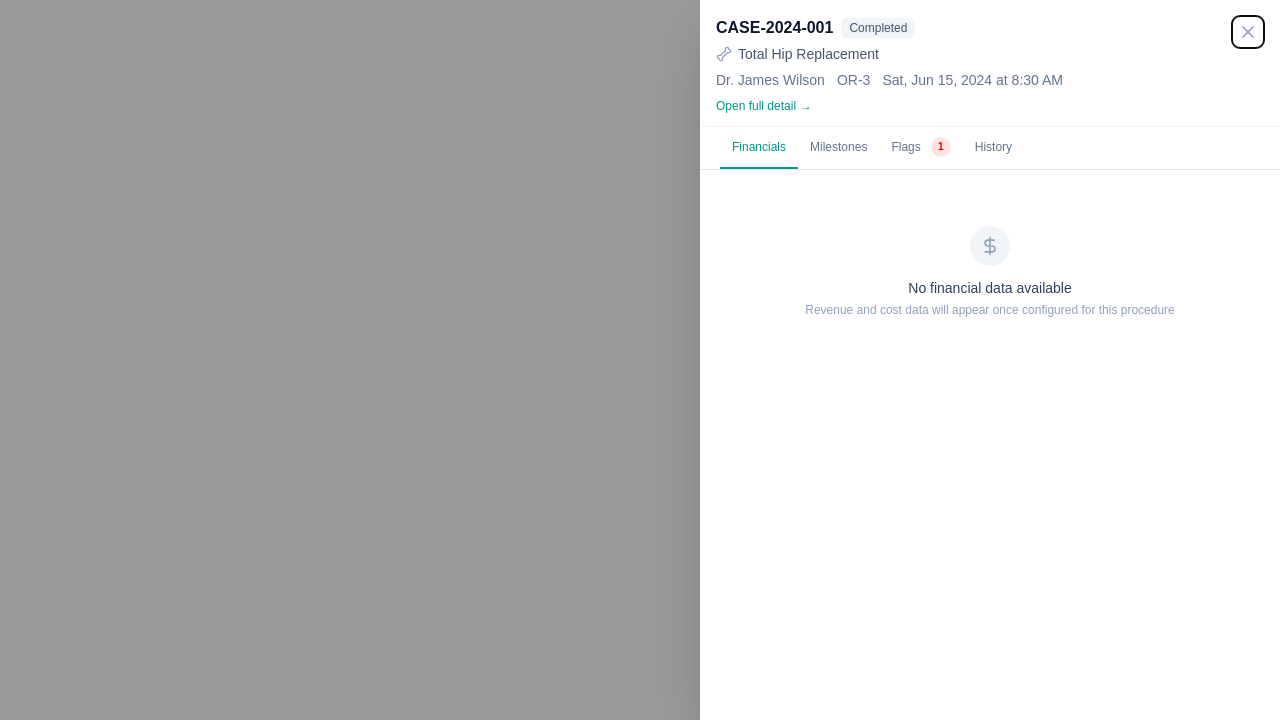
Test: CaseDrawer — cross-tab consistency › financials tab renders after switching from milestones
This screenshot has width=1280, height=720.
Note: Switch to Milestones first
What coordinates should you click on to do the following:
click the button "Milestones"
I would click on:
 (839, 148)
Its box is [798,127,879,169].
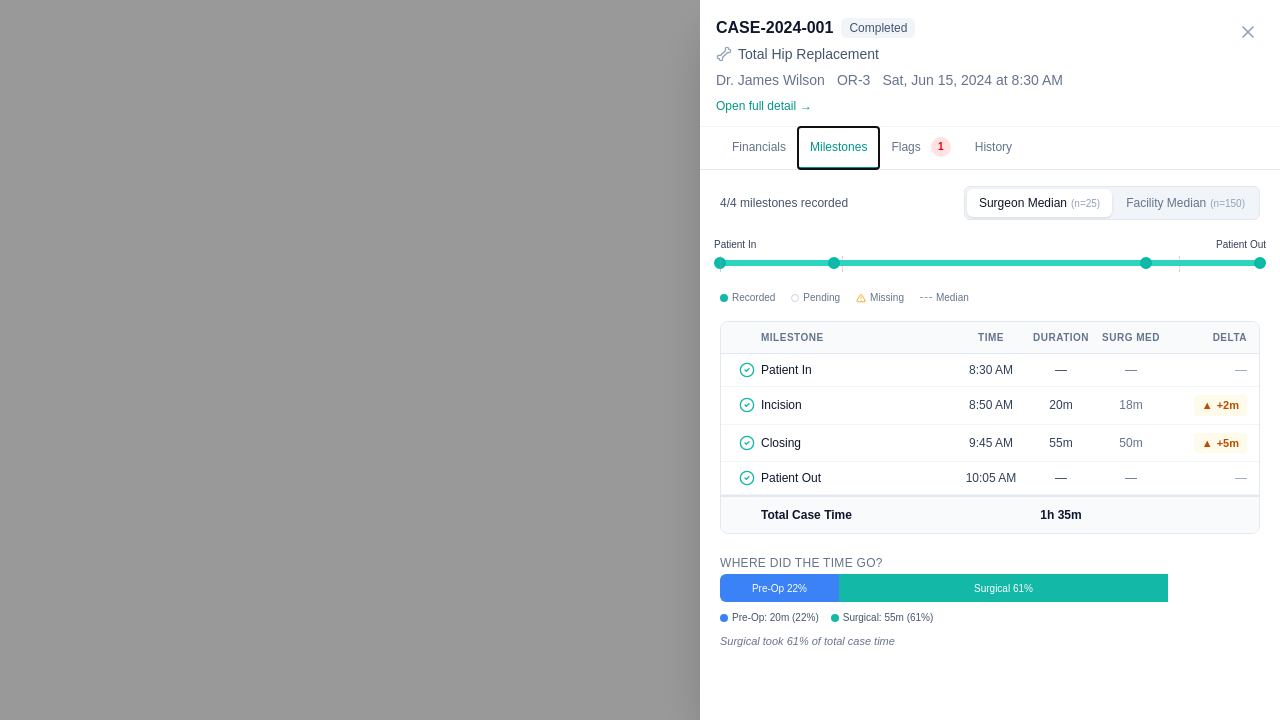
Note: Now switch to Financials
What coordinates should you click on to do the following:
click the button "Financials"
I would click on:
 (759, 148)
Its box is [720,127,798,169].
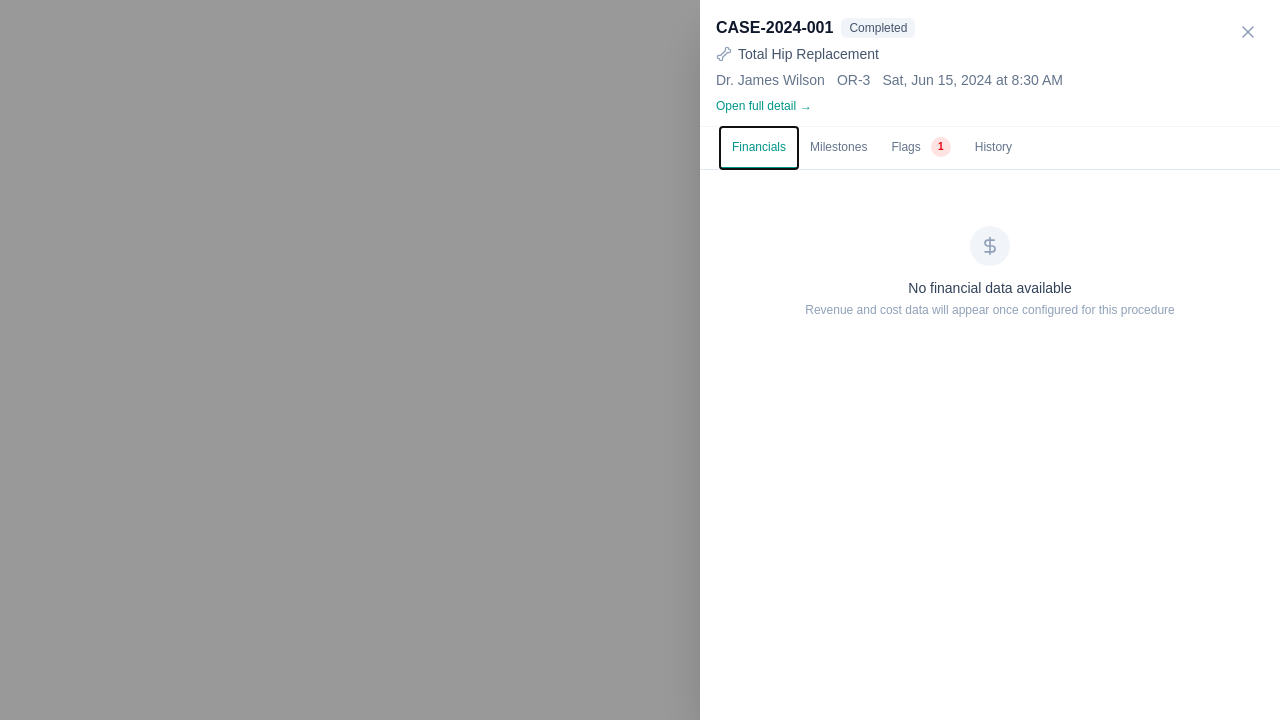
Now the text "No financial data available" is shown, box [908,278,1072,298]
